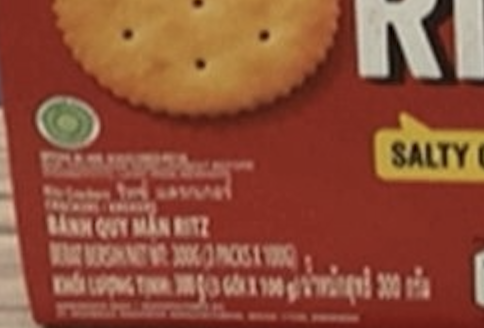halal: (45, 105, 87, 138)
